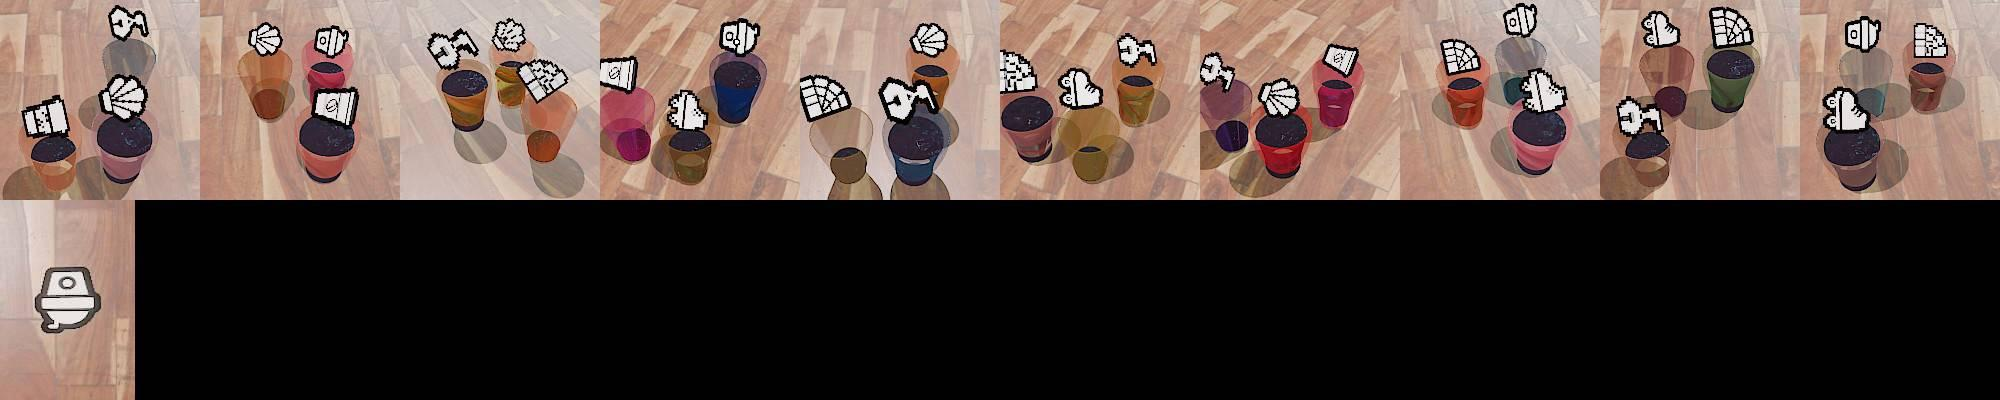icon: (34, 265, 102, 332), (876, 74, 937, 124), (797, 74, 852, 121), (515, 57, 569, 103), (1518, 68, 1569, 115), (99, 73, 151, 120), (20, 92, 71, 138), (426, 29, 481, 71), (1056, 66, 1103, 110), (1823, 87, 1870, 130), (310, 85, 358, 127), (1615, 94, 1661, 136), (1708, 6, 1754, 48), (666, 88, 709, 131), (1000, 47, 1040, 93), (1258, 76, 1300, 118), (718, 18, 761, 57), (598, 56, 639, 94), (107, 5, 149, 42), (1116, 33, 1158, 70), (1640, 10, 1680, 48), (1440, 38, 1481, 75), (909, 22, 952, 57), (1199, 51, 1235, 90), (1844, 17, 1881, 54), (1912, 23, 1949, 59), (247, 22, 284, 57), (1503, 3, 1540, 38), (1321, 43, 1358, 78), (492, 17, 527, 51), (314, 24, 349, 57)
